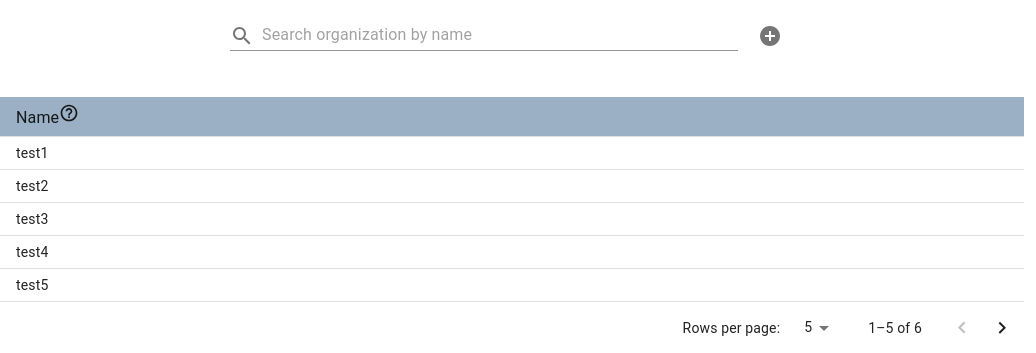
it: Entity table › should show the no entities found ui if no entities were found on filter
In the field labelled "Search organization by name": [500, 36] box [262,22,738,50], type "Non Existant Entity"
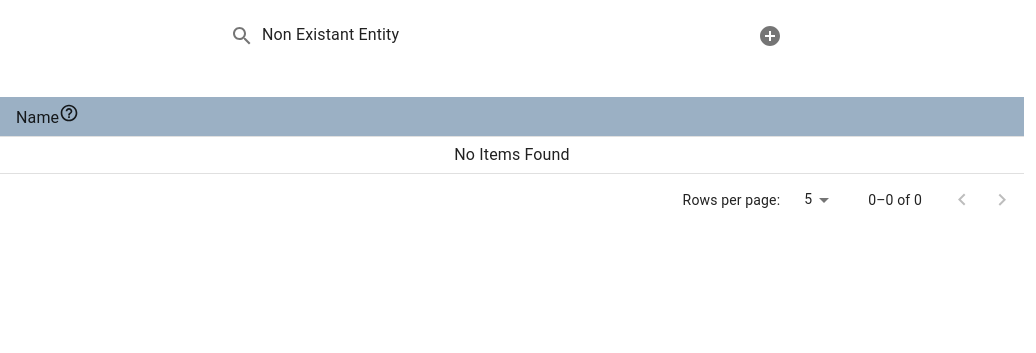
Expected: the text "No Items Found" is shown, [454,145,570,164]
